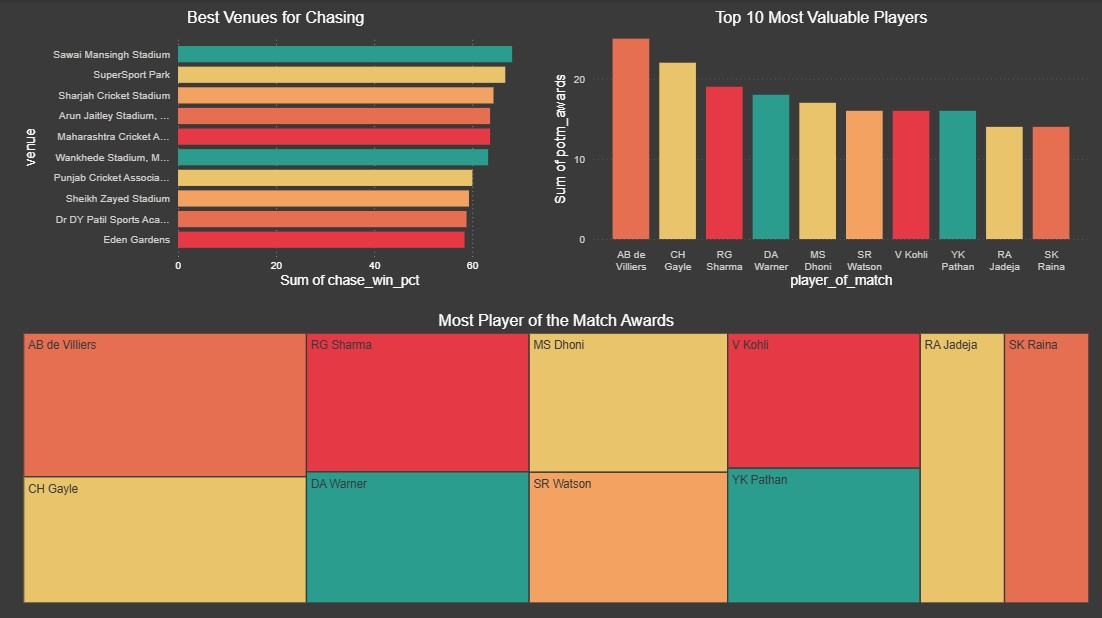

This screenshot's page, from the dashboard's own definition file:
{"tool":"powerbi","page":{"name":"Venue & Awards","canvas":[1280,720],"ordinal":4},"visuals":[{"type":"clusteredBarChart","title":"Best Venues for Chasing","fields":{"Category":["venue_chase_stats.venue"],"Y":["Sum(venue_chase_stats.chase_win_pct)"]},"box":[26,10.1,592.9,328.2],"z":0},{"type":"treemap","title":"Most Player of the Match Awards","fields":{"Group":["player_of_match.player_of_match"],"Values":["Sum(player_of_match.potm_awards)"]},"box":[26,360.1,1242.1,342.7],"z":1000},{"type":"clusteredColumnChart","title":"Top 10 Most Valuable Players","fields":{"Category":["player_of_match.player_of_match"],"Y":["Sum(player_of_match.potm_awards)"]},"box":[639.1,10.1,629,328.2],"z":2000}]}

Visuals, with their boxes in screenshot pixels (x1, y1, x2, y2), scaled from the page's 1280x720 canvas onto the 1102x618 screenshot:
"Best Venues for Chasing" clusteredBarChart: crop(22, 9, 533, 290)
"Most Player of the Match Awards" treemap: crop(22, 309, 1092, 603)
"Top 10 Most Valuable Players" clusteredColumnChart: crop(550, 9, 1092, 290)
